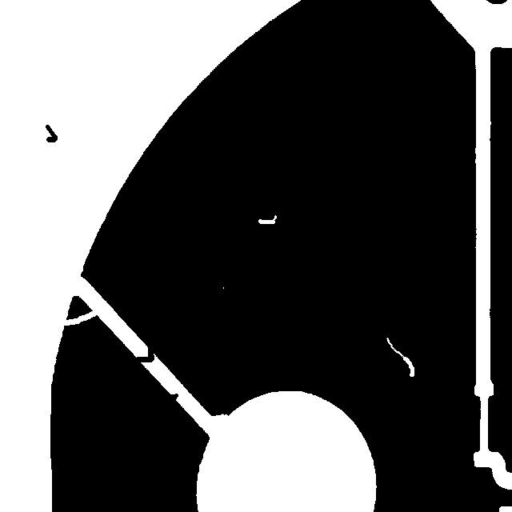copper: (38, 117, 65, 150)
mousebite: (201, 406, 235, 432)
open: (52, 302, 105, 333)
pin-hole: (378, 330, 422, 384), (250, 207, 284, 231)
short: (124, 337, 162, 373)
spur: (160, 386, 186, 407)
